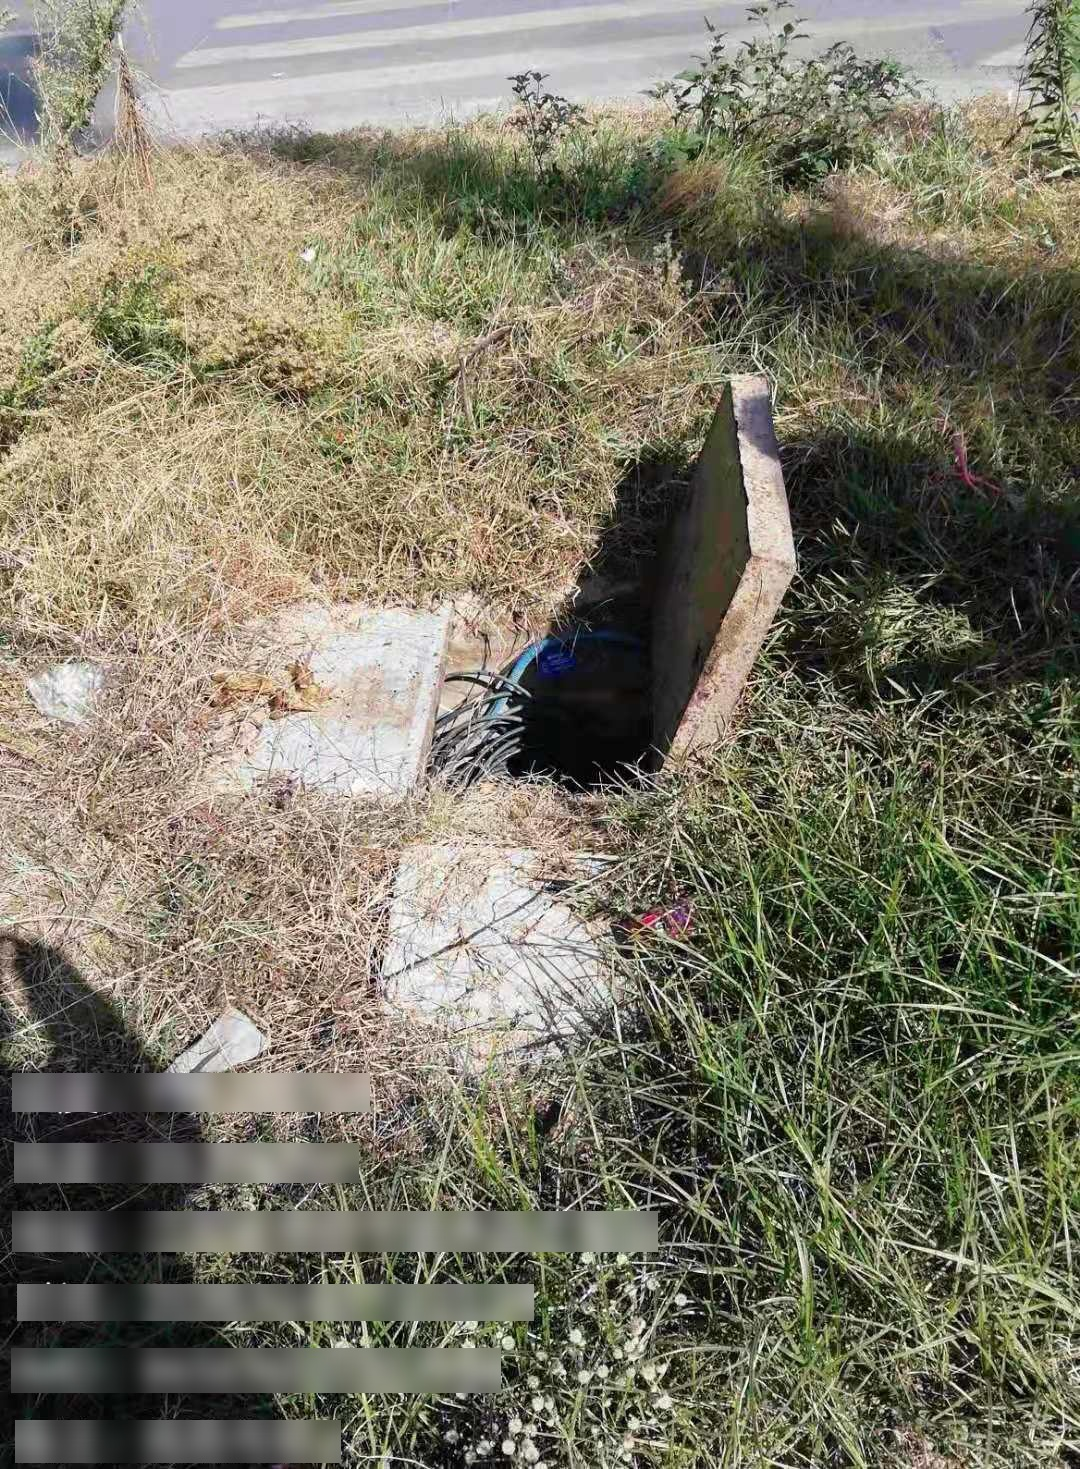uncovered: (174, 370, 802, 793)
